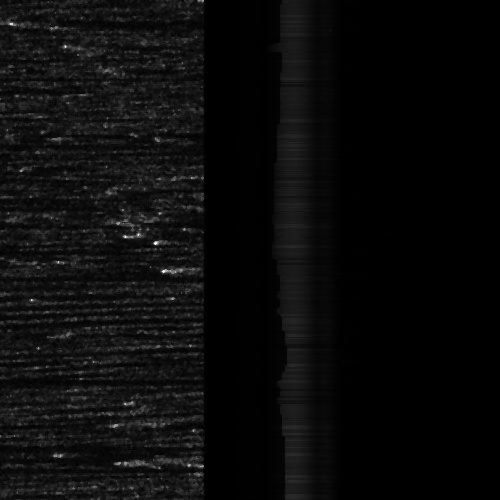shadow: (0, 245, 208, 254), (0, 192, 115, 203), (0, 375, 117, 382)
